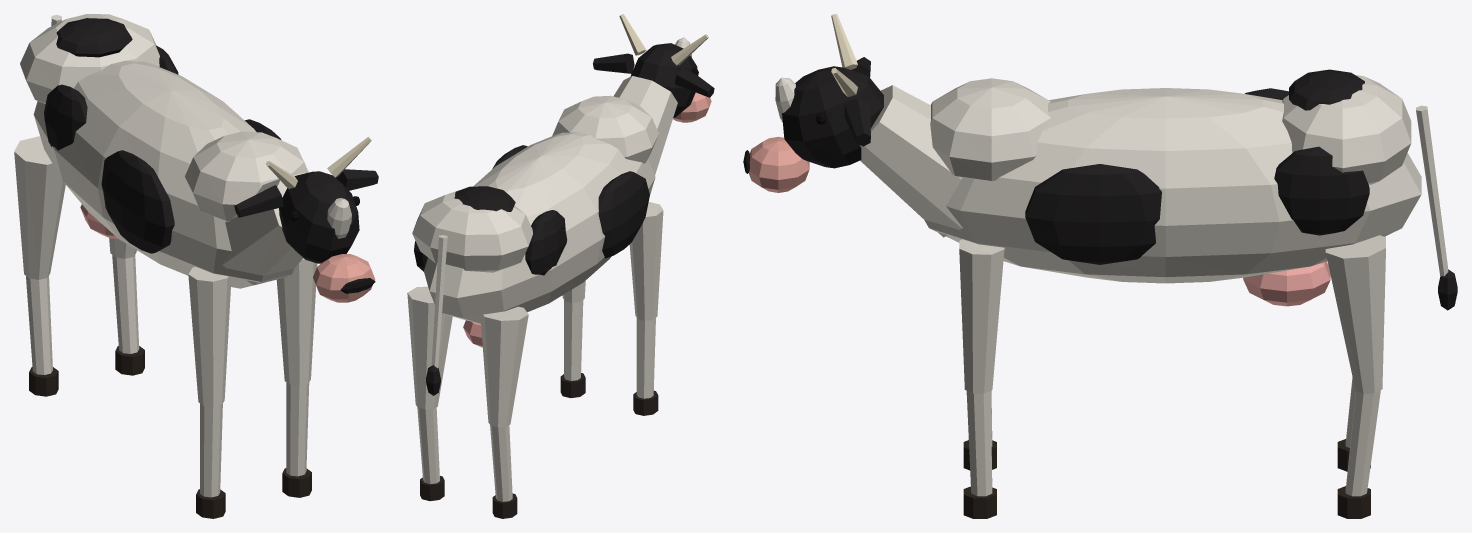
File: cow.obj
3 views of the same model, side by side, from view 1: azimuth 30°, elevation 25°; view 2: azimuth 150°, elevation 25°; view 3: azimuth 270°, elevation 25° (orthographic). The views are drawn at different scales.
Visible parts, largest first — view 1: Body, Body.Patch, Body.Withers, Leg.BR, Body.Hips, Head.Skull, Leg.FR, Head.Neck, Leg.FL, Leg.BR.Shin, Leg.BL.Shin, Leg.FL.Shin (+9 smaller); view 2: Body, Body.Patch, Body.Hips, Body.Withers, Leg.BR, Leg.BL, Leg.FR, Head.Neck, Head.Skull, Leg.FR.Shin, Leg.FL.Shin, Leg.BL.Shin (+11 smaller); view 3: Body, Body.Patch, Body.Withers, Body.Hips, Head.Neck, Leg.BL, Head.Skull, Leg.FL, Body.Udder, Head.Muzzle, Leg.BL.Shin, Leg.FL.Shin (+5 smaller).
Boxes of the visible parts, x1,y1,x2,y2 form: Body: (33,60,294,288); Body.Patch: (44,18,281,253); Body.Withers: (185,131,308,221); Leg.BR: (14,136,65,279); Body.Hips: (20,14,159,103); Head.Skull: (279,171,359,263); Leg.FR: (188,266,231,406); Head.Neck: (222,172,305,284); Leg.FL: (276,258,317,385); Leg.BR.Shin: (26,276,52,374); Leg.BL.Shin: (112,255,139,353); Leg.FL.Shin: (286,382,309,476); Body: (424,132,655,323); Body.Patch: (414,145,649,275); Body.Hips: (412,190,532,272); Body.Withers: (552,95,658,163); Leg.BR: (480,306,528,427); Leg.BL: (407,286,452,409); Leg.FR: (629,202,663,320); Head.Neck: (613,76,677,174); Head.Skull: (630,43,697,117); Leg.FR.Shin: (636,318,655,398); Leg.FL.Shin: (564,300,583,380); Leg.BL.Shin: (417,407,439,483); Body: (924,88,1421,283); Body.Patch: (1025,69,1369,264); Body.Withers: (930,78,1050,181); Body.Hips: (1282,75,1411,184); Head.Neck: (860,85,962,237); Leg.BL: (1325,235,1385,393); Head.Skull: (782,66,883,168); Leg.FL: (959,239,1004,393); Body.Udder: (1243,261,1330,306); Head.Muzzle: (748,136,809,192); Leg.BL.Shin: (1345,390,1380,496); Leg.FL.Shin: (966,391,992,496).
Bounding box in the file's own units: 0.62 × 1.51 × 2.18.
